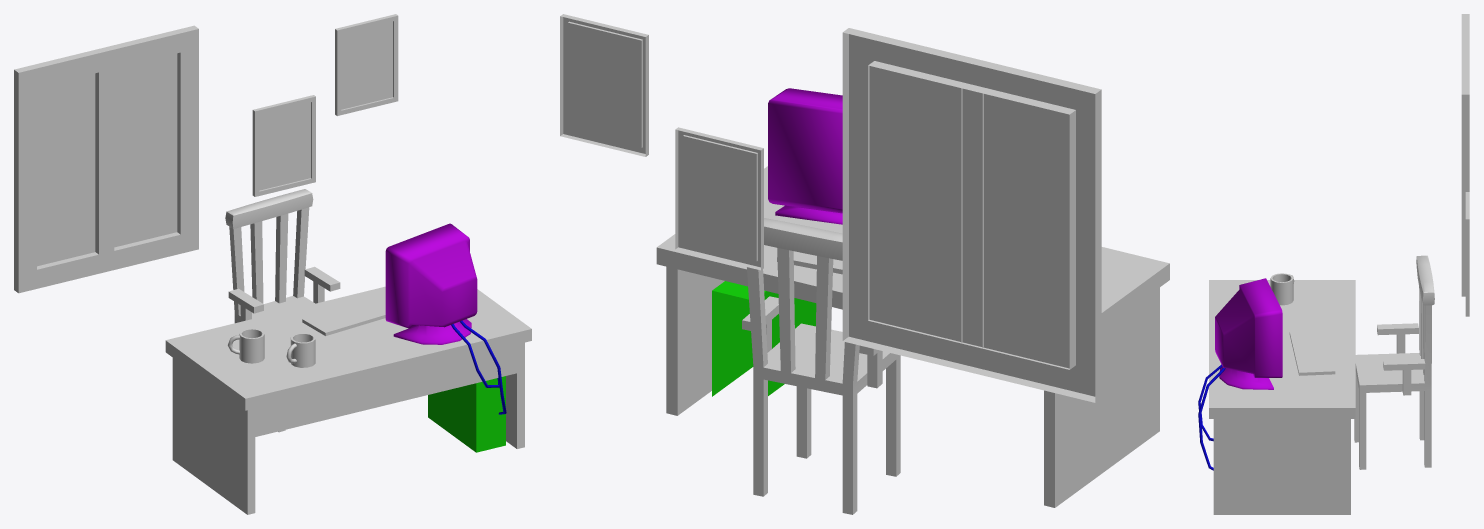
File: room3.fbx
3 renders of one model, left to right at view 1: azimuth 30°, elevation 25°; view 2: azimuth 150°, elevation 25°; view 3: azimuth 270°, elevation 25°, orthographic. The views are drawn at different scales.
Parts seen in each view (by area): view 1: Window.005, Table.001, Monitor.001, Chair.001, Photo.003, Photo.004, Keyboard.001, Cup.002, Cup.001; view 2: Window.005, Table.001, Chair.001, Monitor.001, Photo.004, Photo.003; view 3: Table.001, Monitor.001, Chair.001, Window.005, Keyboard.001, Cup.002, Photo.004.
Part boxes in pixels (bbox=[...]): Window.005: bbox=[14, 25, 198, 293]; Table.001: bbox=[165, 286, 531, 514]; Monitor.001: bbox=[385, 223, 506, 452]; Chair.001: bbox=[225, 189, 340, 432]; Photo.003: bbox=[252, 95, 315, 196]; Photo.004: bbox=[335, 14, 398, 115]; Keyboard.001: bbox=[302, 294, 385, 335]; Cup.002: bbox=[227, 328, 264, 363]; Cup.001: bbox=[286, 333, 315, 367]; Window.005: bbox=[842, 28, 1101, 402]; Table.001: bbox=[656, 166, 1169, 507]; Chair.001: bbox=[742, 218, 900, 514]; Monitor.001: bbox=[712, 88, 842, 396]; Photo.004: bbox=[560, 14, 648, 156]; Photo.003: bbox=[675, 127, 763, 270]; Table.001: bbox=[1209, 280, 1355, 514]; Monitor.001: bbox=[1198, 278, 1282, 470]; Chair.001: bbox=[1354, 255, 1434, 469]; Window.005: bbox=[1461, 14, 1469, 296]; Keyboard.001: bbox=[1289, 331, 1335, 375]; Cup.002: bbox=[1270, 273, 1294, 305]; Photo.004: bbox=[1465, 192, 1469, 297].
Bounding box in the file's own units: 83.9 × 76.78 × 56.4.
